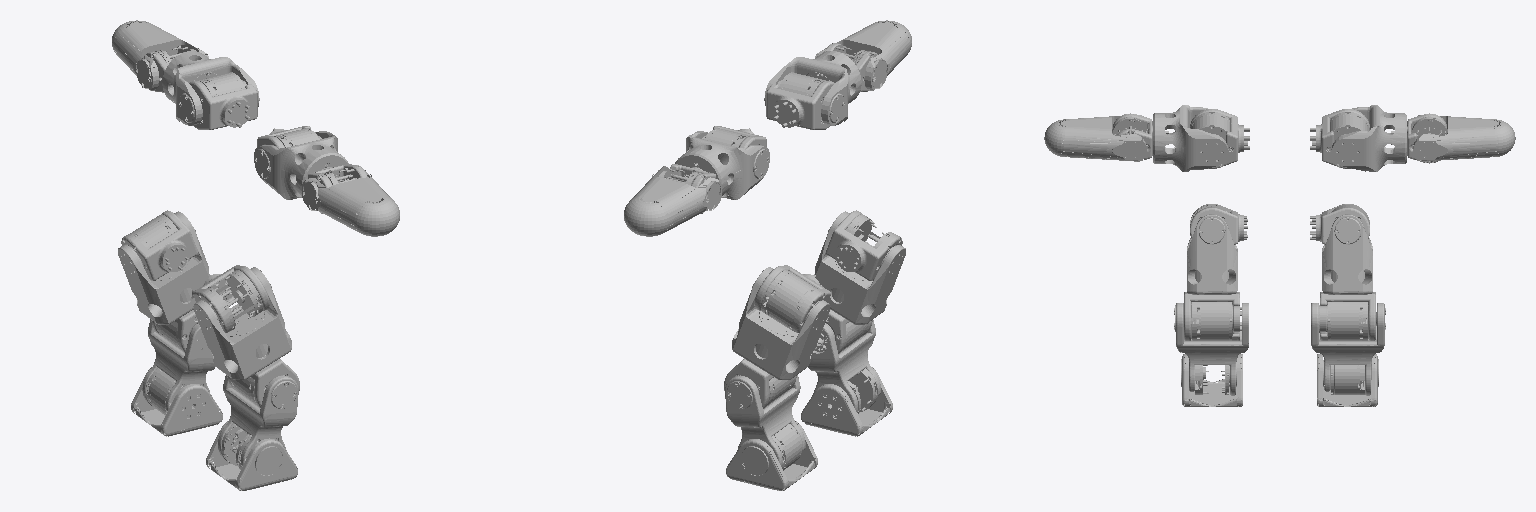
robot.urdf — pikachu_v035:
<?xml version='1.0' encoding='utf-8'?>
<robot name="pikachu_v035">
  
  
  <!-- mujoco compiler insert -->
  
  <mujoco>
      <compiler
      meshdir="../meshes/"
      balanceinertia="true"
      discardvisual="false"
      fusestatic="false"/>
  </mujoco>
  
      
  <link name="base_link">
    <inertial>
      <origin xyz="0.0391995257394136 -1.9789031524553E-12 0.0853379941205948" rpy="0 0 0" />
      <mass value="1.51682" />
      <inertia ixx="0.01051" ixy="0" ixz="-0.00442" iyy="0.0117" iyz="0" izz="0.00373" />
    </inertial>
    <visual>
      <origin xyz="0 0 0" rpy="0 0 0" />
      <geometry>
        <mesh filename="package://pikachu_v035/meshes/base_link.STL" />
      </geometry>
      <material name="">
        <color rgba="0.752941176470588 0.752941176470588 0.752941176470588 1" />
      </material>
    </visual>
    <collision>
      <origin xyz="0 0 0" rpy="0 0 0" />
      <geometry>
        <mesh filename="package://pikachu_v035/meshes/base_link.STL" />
      </geometry>
    </collision>
  </link>
  <link name="left_arm_pitch_link">
    <inertial>
      <origin xyz="-0.00270586656382149 -0.00675165858019348 -0.0010261310701403" rpy="0 0 0" />
      <mass value="0.41906" />
      <inertia ixx="0.00012" ixy="0" ixz="0.00001" iyy="0.00012" iyz="0" izz="0.00016" />
    </inertial>
    <visual>
      <origin xyz="0 0 0" rpy="0 0 0" />
      <geometry>
        <mesh filename="package://pikachu_v035/meshes/left_arm_pitch_link.STL" />
      </geometry>
      <material name="">
        <color rgba="0.752941176470588 0.752941176470588 0.752941176470588 1" />
      </material>
    </visual>
    <collision>
      <origin xyz="0 0 0" rpy="0 0 0" />
      <geometry>
        <mesh filename="package://pikachu_v035/meshes/left_arm_pitch_link.STL" />
      </geometry>
    </collision>
  </link>
  <joint name="left_arm_pitch_joint" type="revolute">
    <origin xyz="0.083 0.088 0.166" rpy="0 0 0" />
    <parent link="base_link" />
    <child link="left_arm_pitch_link" />
    <axis xyz="0 -1 0" />
    <limit lower="-1.5708" upper="1.5708" effort="12.5" velocity="12.57" />
  </joint>
  <link name="left_arm_roll_link">
    <inertial>
      <origin xyz="0.00143744707092022 0.0333906073432077 3.56130749029626E-07" rpy="0 0 0" />
      <mass value="0.3486" />
      <inertia ixx="0.00028" ixy="0.00002" ixz="0" iyy="0.00025" iyz="0" izz="0.00038" />
    </inertial>
    <visual>
      <origin xyz="0 0 0" rpy="0 0 0" />
      <geometry>
        <mesh filename="package://pikachu_v035/meshes/left_arm_roll_link.STL" />
      </geometry>
      <material name="">
        <color rgba="0.752941176470588 0.752941176470588 0.752941176470588 1" />
      </material>
    </visual>
    <collision>
      <origin xyz="0 0 0" rpy="0 0 0" />
      <geometry>
        <mesh filename="package://pikachu_v035/meshes/left_arm_roll_link.STL" />
      </geometry>
    </collision>
  </link>
  <joint name="left_arm_roll_joint" type="revolute">
    <origin xyz="0 0 0" rpy="0 0 0" />
    <parent link="left_arm_pitch_link" />
    <child link="left_arm_roll_link" />
    <axis xyz="-1 0 0" />
    <limit lower="-1.5708" upper="1.5708" effort="12.5" velocity="12.57" />
  </joint>
  <link name="left_arm_yaw_link">
    <inertial>
      <origin xyz="-0.0052037586625046 -0.00612710793924606 -0.000583673111166527" rpy="0 0 0" />
      <mass value="0.22088" />
      <inertia ixx="0.00008" ixy="0" ixz="0" iyy="0.00007" iyz="0" izz="0.00009" />
    </inertial>
    <visual>
      <origin xyz="0 0 0" rpy="0 0 0" />
      <geometry>
        <mesh filename="package://pikachu_v035/meshes/left_arm_yaw_link.STL" />
      </geometry>
      <material name="">
        <color rgba="0.752941176470588 0.752941176470588 0.752941176470588 1" />
      </material>
    </visual>
    <collision>
      <origin xyz="0 0 0" rpy="0 0 0" />
      <geometry>
        <mesh filename="package://pikachu_v035/meshes/left_arm_yaw_link.STL" />
      </geometry>
    </collision>
  </link>
  <joint name="left_arm_yaw_joint" type="revolute">
    <origin xyz="0 0.1055 0" rpy="0 0 0" />
    <parent link="left_arm_roll_link" />
    <child link="left_arm_yaw_link" />
    <axis xyz="0 -1 0" />
    <limit lower="-1.5708" upper="1.5708" effort="3" velocity="15.71" />
  </joint>
  <link name="left_elbow_link">
    <inertial>
      <origin xyz="-0.000530894264703263 0.0450959368213923 3.19660562658752E-07" rpy="0 0 0" />
      <mass value="0.28615" />
      <inertia ixx="0.00036" ixy="0.00002" ixz="0" iyy="0.00016" iyz="0" izz="0.00045" />
    </inertial>
    <visual>
      <origin xyz="0 0 0" rpy="0 0 0" />
      <geometry>
        <mesh filename="package://pikachu_v035/meshes/left_elbow_link.STL" />
      </geometry>
      <material name="">
        <color rgba="0.752941176470588 0.752941176470588 0.752941176470588 1" />
      </material>
    </visual>
    <collision>
      <origin xyz="0 0 0" rpy="0 0 0" />
      <geometry>
        <mesh filename="package://pikachu_v035/meshes/left_elbow_link.STL" />
      </geometry>
    </collision>
  </link>
  <joint name="left_elbow_joint" type="revolute">
    <origin xyz="0 0 0" rpy="0 0 0" />
    <parent link="left_arm_yaw_link" />
    <child link="left_elbow_link" />
    <axis xyz="-1 0 0" />
    <limit lower="-1.5708" upper="1.5708" effort="3" velocity="15.71" />
  </joint>
  <link name="right_arm_pitch_link">
    <inertial>
      <origin xyz="-0.00270586656382 0.00675165858019 -0.00102613107014" rpy="0 0 0" />
      <mass value="0.41906" />
      <inertia ixx="0.00012" ixy="-0" ixz="1e-05" iyy="0.00012" iyz="-0" izz="0.00016" />
    </inertial>
    <visual>
      <origin xyz="0 0 0" rpy="0 0 0" />
      <geometry>
        <mesh filename="package://pikachu_v035/meshes/right_arm_pitch_link.STL" />
      </geometry>
      <material name="">
        <color rgba="0.752941176470588 0.752941176470588 0.752941176470588 1" />
      </material>
    </visual>
    <collision>
      <origin xyz="0 0 0" rpy="0 0 0" />
      <geometry>
        <mesh filename="package://pikachu_v035/meshes/right_arm_pitch_link.STL" />
      </geometry>
    </collision>
  </link>
  <joint name="right_arm_pitch_joint" type="revolute">
    <origin xyz="0.084655 -0.088 0.166" rpy="0 0 0" />
    <parent link="base_link" />
    <child link="right_arm_pitch_link" />
    <axis xyz="0 1 0" />
    <limit lower="-1.5708" upper="1.5708" effort="12.5" velocity="12.57" />
  </joint>
  <link name="right_arm_roll_link">
    <inertial>
      <origin xyz="0.00143744707092 -0.0333906073432 3.5613074903e-07" rpy="0 0 0" />
      <mass value="0.3486" />
      <inertia ixx="0.00028" ixy="-2e-05" ixz="-0" iyy="0.00025" iyz="0" izz="0.00038" />
    </inertial>
    <visual>
      <origin xyz="0 0 0" rpy="0 0 0" />
      <geometry>
        <mesh filename="package://pikachu_v035/meshes/right_arm_roll_link.STL" />
      </geometry>
      <material name="">
        <color rgba="0.752941176470588 0.752941176470588 0.752941176470588 1" />
      </material>
    </visual>
    <collision>
      <origin xyz="0 0 0" rpy="0 0 0" />
      <geometry>
        <mesh filename="package://pikachu_v035/meshes/right_arm_roll_link.STL" />
      </geometry>
    </collision>
  </link>
  <joint name="right_arm_roll_joint" type="revolute">
    <origin xyz="0 0 0" rpy="0 0 0" />
    <parent link="right_arm_pitch_link" />
    <child link="right_arm_roll_link" />
    <axis xyz="-1 0 0" />
    <limit lower="-1.5708" upper="1.5708" effort="12.5" velocity="12.57" />
  </joint>
  <link name="right_arm_yaw_link">
    <inertial>
      <origin xyz="-0.0052037586625 0.00612710793925 -0.000583673111167" rpy="0 0 0" />
      <mass value="0.22088" />
      <inertia ixx="8e-05" ixy="-0" ixz="-0" iyy="7e-05" iyz="0" izz="9e-05" />
    </inertial>
    <visual>
      <origin xyz="0 0 0" rpy="0 0 0" />
      <geometry>
        <mesh filename="package://pikachu_v035/meshes/right_arm_yaw_link.STL" />
      </geometry>
      <material name="">
        <color rgba="0.752941176470588 0.752941176470588 0.752941176470588 1" />
      </material>
    </visual>
    <collision>
      <origin xyz="0 0 0" rpy="0 0 0" />
      <geometry>
        <mesh filename="package://pikachu_v035/meshes/right_arm_yaw_link.STL" />
      </geometry>
    </collision>
  </link>
  <joint name="right_arm_yaw_joint" type="revolute">
    <origin xyz="0 -0.1055 0" rpy="0 0 0" />
    <parent link="right_arm_roll_link" />
    <child link="right_arm_yaw_link" />
    <axis xyz="0 1 0" />
    <limit lower="-1.5708" upper="1.5708" effort="3" velocity="15.71" />
  </joint>
  <link name="right_elbow_link">
    <inertial>
      <origin xyz="-0.000530894264703 -0.0450959368214 3.19660562659e-07" rpy="0 0 0" />
      <mass value="0.28615" />
      <inertia ixx="0.00036" ixy="-2e-05" ixz="-0" iyy="0.00016" iyz="0" izz="0.00045" />
    </inertial>
    <visual>
      <origin xyz="0 0 0" rpy="0 0 0" />
      <geometry>
        <mesh filename="package://pikachu_v035/meshes/right_elbow_link.STL" />
      </geometry>
      <material name="">
        <color rgba="0.752941176470588 0.752941176470588 0.752941176470588 1" />
      </material>
    </visual>
    <collision>
      <origin xyz="0 0 0" rpy="0 0 0" />
      <geometry>
        <mesh filename="package://pikachu_v035/meshes/right_elbow_link.STL" />
      </geometry>
    </collision>
  </link>
  <joint name="right_elbow_joint" type="revolute">
    <origin xyz="0 0 0" rpy="0 0 0" />
    <parent link="right_arm_yaw_link" />
    <child link="right_elbow_link" />
    <axis xyz="-1 0 0" />
    <limit lower="-1.5708" upper="1.5708" effort="3" velocity="15.71" />
  </joint>
  <link name="left_hip_pitch_link">
    <inertial>
      <origin xyz="0.00300562434457657 -0.00606385593973444 0.000754075984287168" rpy="0 0 0" />
      <mass value="0.39801" />
      <inertia ixx="0.00011" ixy="0" ixz="0" iyy="0.0001" iyz="0" izz="0.00014" />
    </inertial>
    <visual>
      <origin xyz="0 0 0" rpy="0 0 0" />
      <geometry>
        <mesh filename="package://pikachu_v035/meshes/left_hip_pitch_link.STL" />
      </geometry>
      <material name="">
        <color rgba="0.752941176470588 0.752941176470588 0.752941176470588 1" />
      </material>
    </visual>
    <collision>
      <origin xyz="0 0 0" rpy="0 0 0" />
      <geometry>
        <mesh filename="package://pikachu_v035/meshes/left_hip_pitch_link.STL" />
      </geometry>
    </collision>
  </link>
  <joint name="left_hip_pitch_joint" type="revolute">
    <origin xyz="0 0.088 0" rpy="0 -0.34907 0" />
    <parent link="base_link" />
    <child link="left_hip_pitch_link" />
    <axis xyz="0 -1 0" />
    <limit lower="-2.44" upper="2.44" effort="12.5" velocity="12.57" />
  </joint>
  <link name="left_hip_roll_link">
    <inertial>
      <origin xyz="-0.00178229851177284 -5.84403092108998E-06 -0.0423594488238" rpy="0 0 0" />
      <mass value="0.55732" />
      <inertia ixx="0.0004" ixy="0" ixz="0.00003" iyy="0.00055" iyz="0" izz="0.00036" />
    </inertial>
    <visual>
      <origin xyz="0 0 0" rpy="0 0 0" />
      <geometry>
        <mesh filename="package://pikachu_v035/meshes/left_hip_roll_link.STL" />
      </geometry>
      <material name="">
        <color rgba="0.752941176470588 0.752941176470588 0.752941176470588 1" />
      </material>
    </visual>
    <collision>
      <origin xyz="0 0 0" rpy="0 0 0" />
      <geometry>
        <mesh filename="package://pikachu_v035/meshes/left_hip_roll_link.STL" />
      </geometry>
    </collision>
  </link>
  <joint name="left_hip_roll_joint" type="revolute">
    <origin xyz="0 0 0" rpy="0 0 0" />
    <parent link="left_hip_pitch_link" />
    <child link="left_hip_roll_link" />
    <axis xyz="1 0 0" />
    <limit lower="-0.26" upper="0.26" effort="12.5" velocity="12.57" />
  </joint>
  <link name="left_hip_yaw_link">
    <inertial>
      <origin xyz="-0.00071555905928949 0.00247486820788727 -0.112156975339045" rpy="0 0 0" />
      <mass value="0.45595" />
      <inertia ixx="0.00027" ixy="0" ixz="0" iyy="0.00022" iyz="0" izz="0.00023" />
    </inertial>
    <visual>
      <origin xyz="0 0 0" rpy="0 0 0" />
      <geometry>
        <mesh filename="package://pikachu_v035/meshes/left_hip_yaw_link.STL" />
      </geometry>
      <material name="">
        <color rgba="0.752941176470588 0.752941176470588 0.752941176470588 1" />
      </material>
    </visual>
    <collision>
      <origin xyz="0 0 0" rpy="0 0 0" />
      <geometry>
        <mesh filename="package://pikachu_v035/meshes/left_hip_yaw_link.STL" />
      </geometry>
    </collision>
  </link>
  <joint name="left_hip_yaw_joint" type="revolute">
    <origin xyz="0 0 0" rpy="0 0 0" />
    <parent link="left_hip_roll_link" />
    <child link="left_hip_yaw_link" />
    <axis xyz="0 0 1" />
    <limit lower="-0.26" upper="0.26" effort="12.5" velocity="12.57" />
  </joint>
  <link name="left_knee_link">
    <inertial>
      <origin xyz="6.05700005735371E-06 -0.000791318951286472 -0.0492172676961546" rpy="0 0 0" />
      <mass value="0.54888" />
      <inertia ixx="0.00085" ixy="0" ixz="0" iyy="0.00067" iyz="0.00004" izz="0.00029" />
    </inertial>
    <visual>
      <origin xyz="0 0 0" rpy="0 0 0" />
      <geometry>
        <mesh filename="package://pikachu_v035/meshes/left_knee_link.STL" />
      </geometry>
      <material name="">
        <color rgba="0.752941176470588 0.752941176470588 0.752941176470588 1" />
      </material>
    </visual>
    <collision>
      <origin xyz="0 0 0" rpy="0 0 0" />
      <geometry>
        <mesh filename="package://pikachu_v035/meshes/left_knee_link.STL" />
      </geometry>
    </collision>
  </link>
  <joint name="left_knee_joint" type="revolute">
    <origin xyz="0 0 -0.118" rpy="0 0.5236 0" />
    <parent link="left_hip_yaw_link" />
    <child link="left_knee_link" />
    <axis xyz="0 1 0" />
    <limit lower="-0.523598775598" upper="1.57079632679" effort="40" velocity="3.7699111843" />
  </joint>
  <link name="left_ankle_link">
    <inertial>
      <origin xyz="6.78862736043159E-06 -0.00132794811198981 -0.0119364153902393" rpy="0 0 0" />
      <mass value="0.12169" />
      <inertia ixx="0.00016" ixy="0" ixz="0" iyy="0.00007" iyz="0" izz="0.00017" />
    </inertial>
    <visual>
      <origin xyz="0 0 0" rpy="0 0 0" />
      <geometry>
        <mesh filename="package://pikachu_v035/meshes/left_ankle_link.STL" />
      </geometry>
      <material name="">
        <color rgba="0.752941176470588 0.752941176470588 0.752941176470588 1" />
      </material>
    </visual>
    <collision>
      <origin xyz="0 0 0" rpy="0 0 0" />
      <geometry>
        <mesh filename="package://pikachu_v035/meshes/left_ankle_link.STL" />
      </geometry>
    </collision>
  </link>
  <joint name="left_ankle_joint" type="revolute">
    <origin xyz="0 0 -0.086" rpy="0 -0.17453 0" />
    <parent link="left_knee_link" />
    <child link="left_ankle_link" />
    <axis xyz="0 1 0" />
    <limit lower="-0.79" upper="1.05" effort="12.5" velocity="12.57" />
  </joint>
  <link name="right_hip_pitch_link">
    <inertial>
      <origin xyz="0.00300562434458 0.00606385593973 0.000754075984287" rpy="0 0 0" />
      <mass value="0.39801" />
      <inertia ixx="0.00011" ixy="-0" ixz="0" iyy="0.0001" iyz="-0" izz="0.00014" />
    </inertial>
    <visual>
      <origin xyz="0 0 0" rpy="0 0 0" />
      <geometry>
        <mesh filename="package://pikachu_v035/meshes/right_hip_pitch_link.STL" />
      </geometry>
      <material name="">
        <color rgba="0.752941176470588 0.752941176470588 0.752941176470588 1" />
      </material>
    </visual>
    <collision>
      <origin xyz="0 0 0" rpy="0 0 0" />
      <geometry>
        <mesh filename="package://pikachu_v035/meshes/right_hip_pitch_link.STL" />
      </geometry>
    </collision>
  </link>
  <joint name="right_hip_pitch_joint" type="revolute">
    <origin xyz="0 -0.088 0" rpy="0 -0.34907 0" />
    <parent link="base_link" />
    <child link="right_hip_pitch_link" />
    <axis xyz="0 1 0" />
    <limit lower="-2.44" upper="2.44" effort="12.5" velocity="12.57" />
  </joint>
  <link name="right_hip_roll_link">
    <inertial>
      <origin xyz="-0.00178229851177 5.84403092109e-06 -0.0423594488238" rpy="0 0 0" />
      <mass value="0.55732" />
      <inertia ixx="0.0004" ixy="0" ixz="3e-05" iyy="0.00055" iyz="0" izz="0.00036" />
    </inertial>
    <visual>
      <origin xyz="0 0 0" rpy="0 0 0" />
      <geometry>
        <mesh filename="package://pikachu_v035/meshes/right_hip_roll_link.STL" />
      </geometry>
      <material name="">
        <color rgba="0.752941176470588 0.752941176470588 0.752941176470588 1" />
      </material>
    </visual>
    <collision>
      <origin xyz="0 0 0" rpy="0 0 0" />
      <geometry>
        <mesh filename="package://pikachu_v035/meshes/right_hip_roll_link.STL" />
      </geometry>
    </collision>
  </link>
  <joint name="right_hip_roll_joint" type="revolute">
    <origin xyz="0 0 0" rpy="0 0 0" />
    <parent link="right_hip_pitch_link" />
    <child link="right_hip_roll_link" />
    <axis xyz="1 0 0" />
    <limit lower="-0.26" upper="0.26" effort="12.5" velocity="12.57" />
  </joint>
  <link name="right_hip_yaw_link">
    <inertial>
      <origin xyz="-0.000715559059289 -0.00247486820789 -0.112156975339" rpy="0 0 0" />
      <mass value="0.45595" />
      <inertia ixx="0.00027" ixy="-0" ixz="0" iyy="0.00022" iyz="-0" izz="0.00023" />
    </inertial>
    <visual>
      <origin xyz="0 0 0" rpy="0 0 0" />
      <geometry>
        <mesh filename="package://pikachu_v035/meshes/right_hip_yaw_link.STL" />
      </geometry>
      <material name="">
        <color rgba="0.752941176470588 0.752941176470588 0.752941176470588 1" />
      </material>
    </visual>
    <collision>
      <origin xyz="0 0 0" rpy="0 0 0" />
      <geometry>
        <mesh filename="package://pikachu_v035/meshes/right_hip_yaw_link.STL" />
      </geometry>
    </collision>
  </link>
  <joint name="right_hip_yaw_joint" type="revolute">
    <origin xyz="0 0 0" rpy="0 0 0" />
    <parent link="right_hip_roll_link" />
    <child link="right_hip_yaw_link" />
    <axis xyz="0 0 1" />
    <limit lower="-0.26" upper="0.26" effort="12.5" velocity="12.57" />
  </joint>
  <link name="right_knee_link">
    <inertial>
      <origin xyz="6.05700005735e-06 0.000791318951286 -0.0492172676962" rpy="0 0 0" />
      <mass value="0.54888" />
      <inertia ixx="0.00085" ixy="-0" ixz="0" iyy="0.00067" iyz="4e-05" izz="0.00029" />
    </inertial>
    <visual>
      <origin xyz="0 0 0" rpy="0 0 0" />
      <geometry>
        <mesh filename="package://pikachu_v035/meshes/right_knee_link.STL" />
      </geometry>
      <material name="">
        <color rgba="0.752941176470588 0.752941176470588 0.752941176470588 1" />
      </material>
    </visual>
    <collision>
      <origin xyz="0 0 0" rpy="0 0 0" />
      <geometry>
        <mesh filename="package://pikachu_v035/meshes/right_knee_link.STL" />
      </geometry>
    </collision>
  </link>
  <joint name="right_knee_joint" type="revolute">
    <origin xyz="0 0 -0.118" rpy="0 0.5236 0" />
    <parent link="right_hip_yaw_link" />
    <child link="right_knee_link" />
    <axis xyz="0 -1 0" />
    <limit lower="-1.57079632679" upper="0.523598775598" effort="40" velocity="3.7699111843" />
  </joint>
  <link name="right_ankle_link">
    <inertial>
      <origin xyz="6.78862736043e-06 0.00132794811199 -0.0119364153902" rpy="0 0 0" />
      <mass value="0.12169" />
      <inertia ixx="0.00016" ixy="0" ixz="-0" iyy="7e-05" iyz="-0" izz="0.00017" />
    </inertial>
    <visual>
      <origin xyz="0 0 0" rpy="0 0 0" />
      <geometry>
        <mesh filename="package://pikachu_v035/meshes/right_ankle_link.STL" />
      </geometry>
      <material name="">
        <color rgba="0.752941176470588 0.752941176470588 0.752941176470588 1" />
      </material>
    </visual>
    <collision>
      <origin xyz="0 0 0" rpy="0 0 0" />
      <geometry>
        <mesh filename="package://pikachu_v035/meshes/right_ankle_link.STL" />
      </geometry>
    </collision>
  </link>
  <joint name="right_ankle_joint" type="revolute">
    <origin xyz="0 0 -0.086" rpy="0 -0.17453 0" />
    <parent link="right_knee_link" />
    <child link="right_ankle_link" />
    <axis xyz="0 -1 0" />
    <limit lower="-1.05" upper="0.79" effort="12.5" velocity="12.57" />
  </joint>
</robot>

--- Facts derived from the render (not from the file) ---
Views: 3 orthographic renders of the robot side by side, from view 1: azimuth 30°, elevation 25°; view 2: azimuth 150°, elevation 25°; view 3: azimuth 270°, elevation 25°.
Model pikachu_v035 with 19 links and 18 joints (18 revolute), rooted at base_link, posed every joint at zero.
Links seen in each view (by area): view 1: right_hip_roll_link, right_knee_link, left_hip_roll_link, right_elbow_link, left_knee_link, right_arm_roll_link, left_hip_pitch_link, left_arm_roll_link, right_ankle_link, left_arm_pitch_link, left_ankle_link, left_elbow_link (+5 smaller); view 2: left_hip_roll_link, left_knee_link, left_elbow_link, right_hip_roll_link, right_knee_link, left_arm_roll_link, left_hip_pitch_link, right_arm_roll_link, right_ankle_link, left_ankle_link, right_arm_pitch_link, right_hip_pitch_link (+6 smaller); view 3: left_knee_link, right_hip_roll_link, left_hip_roll_link, left_elbow_link, right_elbow_link, right_arm_roll_link, left_arm_roll_link, right_knee_link, left_hip_yaw_link, right_hip_yaw_link, left_arm_pitch_link, right_arm_pitch_link (+6 smaller).
Boxes of the visible links, <box> form: right_hip_roll_link: <box>193,267,291,379</box>; right_knee_link: <box>218,375,298,469</box>; left_hip_roll_link: <box>118,211,210,324</box>; right_elbow_link: <box>302,167,399,236</box>; left_knee_link: <box>142,319,214,415</box>; right_arm_roll_link: <box>254,131,348,199</box>; left_hip_pitch_link: <box>121,210,197,280</box>; left_arm_roll_link: <box>162,51,259,125</box>; right_ankle_link: <box>206,421,297,490</box>; left_arm_pitch_link: <box>189,72,257,129</box>; left_ankle_link: <box>131,367,222,436</box>; left_elbow_link: <box>112,20,208,90</box>; left_hip_roll_link: <box>732,267,830,379</box>; left_knee_link: <box>725,375,805,475</box>; left_elbow_link: <box>624,166,721,236</box>; right_hip_roll_link: <box>813,211,905,324</box>; right_knee_link: <box>808,320,880,413</box>; left_arm_roll_link: <box>675,131,769,199</box>; left_hip_pitch_link: <box>754,265,830,332</box>; right_arm_roll_link: <box>764,51,861,125</box>; right_ankle_link: <box>801,367,892,436</box>; left_ankle_link: <box>726,421,817,490</box>; right_arm_pitch_link: <box>766,72,834,129</box>; right_hip_pitch_link: <box>826,210,902,280</box>; left_knee_link: <box>1311,303,1385,395</box>; right_hip_roll_link: <box>1187,214,1237,294</box>; left_hip_roll_link: <box>1322,214,1372,294</box>; left_elbow_link: <box>1413,114,1515,161</box>; right_elbow_link: <box>1044,114,1146,161</box>; right_arm_roll_link: <box>1153,105,1227,171</box>; left_arm_roll_link: <box>1332,105,1406,171</box>; right_knee_link: <box>1174,303,1248,395</box>; left_hip_yaw_link: <box>1320,292,1375,340</box>; right_hip_yaw_link: <box>1184,292,1239,340</box>; left_arm_pitch_link: <box>1310,109,1369,168</box>; right_arm_pitch_link: <box>1190,109,1249,168</box>.
Size in the robot's own frame: 0.1713 by 0.6098 by 0.4286 metres.
18 mesh visuals loaded from 19 distinct referenced files (18 binary STL); not drawn: 1 (reference not matched to a file when rendering).
